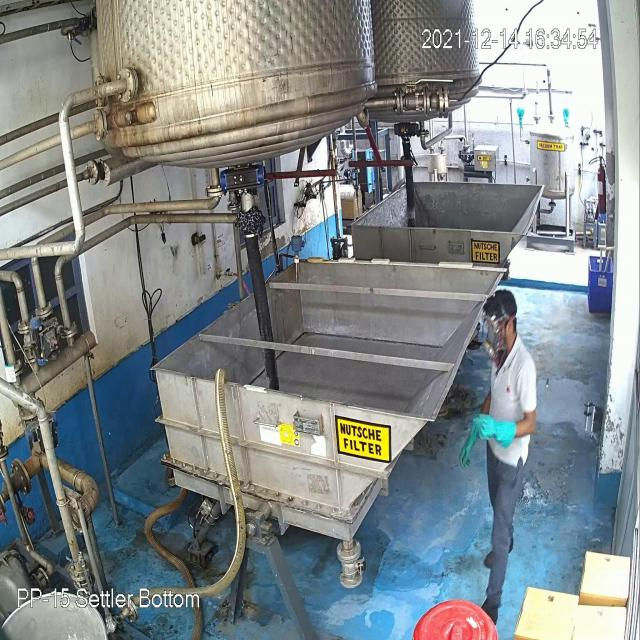Gloves: (474, 407, 518, 450)
